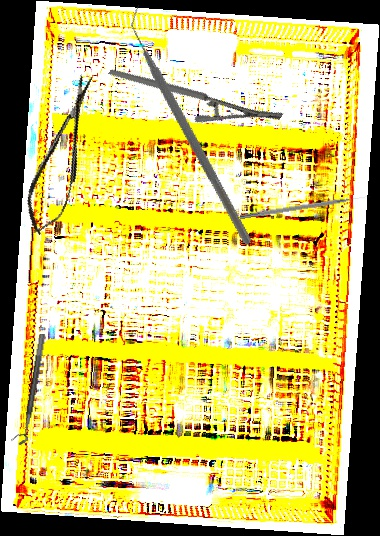Chopper: (61, 4, 326, 246)
Fixation Ring: (10, 331, 47, 447)
Hook Surgical: (239, 193, 371, 221)
Micro Scissor: (15, 70, 111, 240)
Needle Holder: (108, 19, 284, 168)
